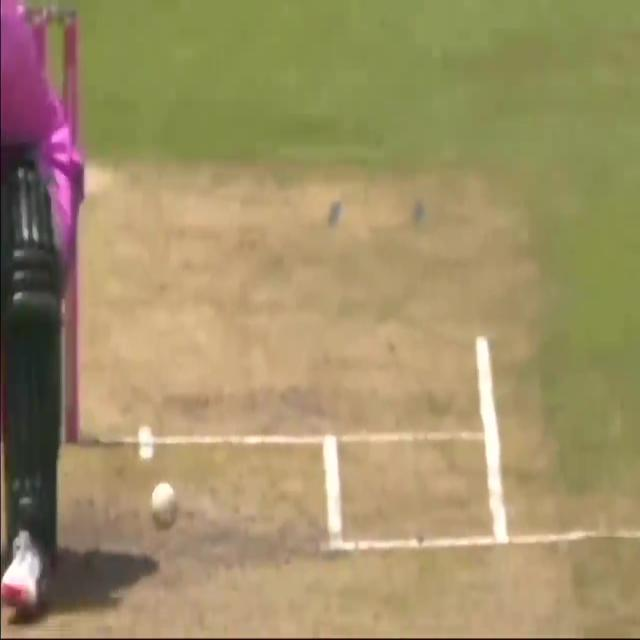Batsman: (143, 474, 186, 541)
